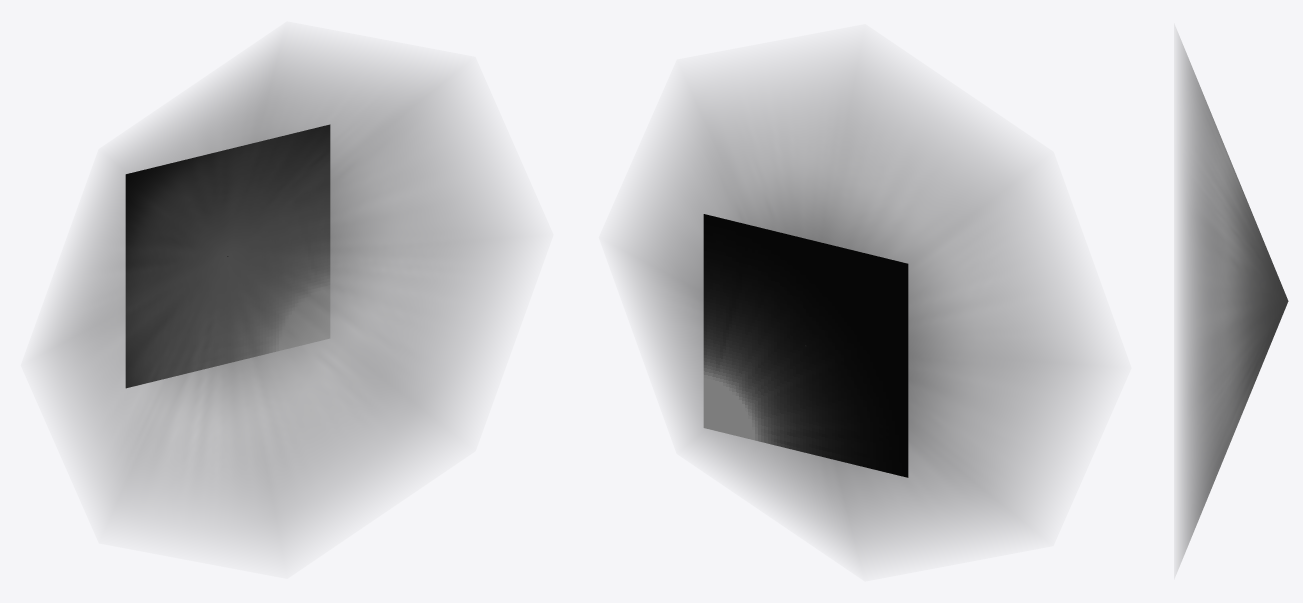
File: sun__sun_model.glb
3 renders of one model, left to right at view 1: azimuth 30°, elevation 25°; view 2: azimuth 150°, elevation 25°; view 3: azimuth 270°, elevation 25°, orthographic. The views are drawn at different scales.
Visible parts, largest first — view 1: Polygon1, Polygon0; view 2: Polygon1, Polygon0; view 3: Polygon1.
Part boxes in pixels (x1,y1,x2,y2): Polygon1: (46,51,512,538); Polygon0: (125,124,330,388); Polygon1: (624,64,1090,551); Polygon0: (703,214,908,477); Polygon1: (1180,39,1288,562).
Size of the model in its own units: 34860 by 34860 by 6721.
2 materials, 2 textured.
